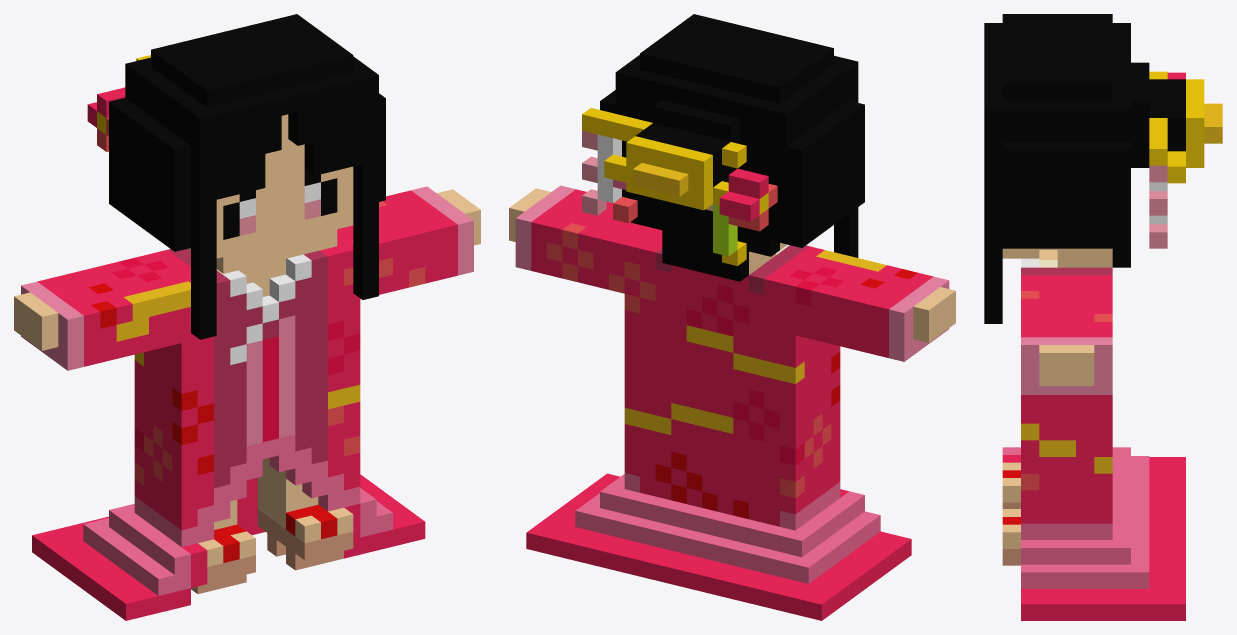
Rendered from atuhime.glb.
The picture shows the model from 3 angles, left to right: view 1: azimuth 30°, elevation 25°; view 2: azimuth 150°, elevation 25°; view 3: azimuth 270°, elevation 25°; orthographic projection. The views are drawn at different scales.
Visible parts, largest first — view 1: Untitled; view 2: Untitled; view 3: Untitled.
Boxes of the visible parts, <box> form: Untitled: <box>14,14,480,620</box>; Untitled: <box>509,14,955,620</box>; Untitled: <box>984,14,1222,620</box>.
Size of the model in its own units: 2.7 by 3 by 1.3.
Materials: 1 (1 with a texture image).
